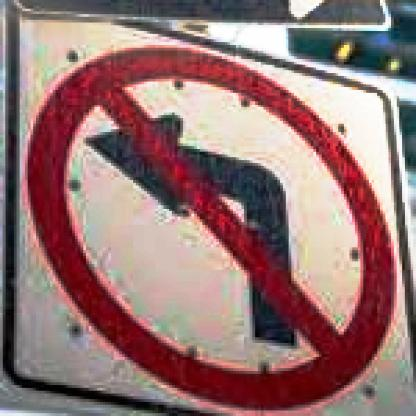No left turn: (21, 41, 398, 412)
